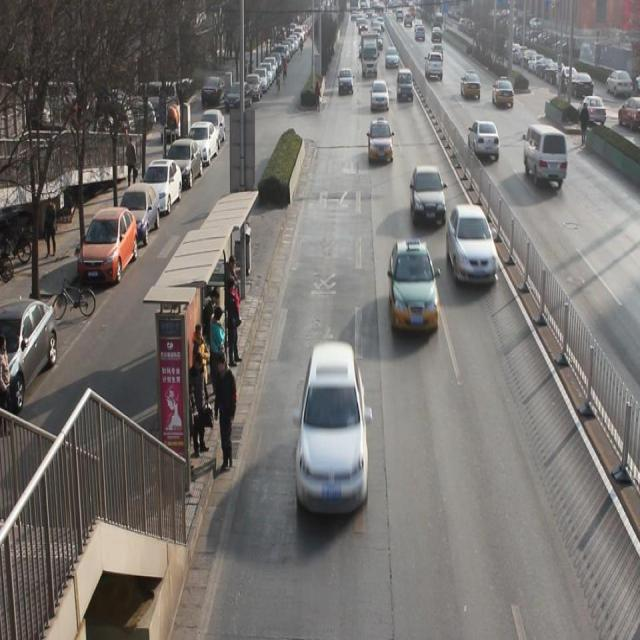bus: (361, 38, 379, 76)
car: (296, 340, 371, 517), (386, 240, 441, 334), (447, 207, 500, 285), (409, 168, 447, 223), (467, 118, 501, 161), (368, 122, 393, 164), (492, 76, 515, 108), (370, 81, 391, 113), (396, 69, 415, 104), (461, 69, 482, 99), (426, 53, 446, 79), (338, 68, 354, 94), (386, 47, 399, 69)
truck: (524, 125, 567, 191)
